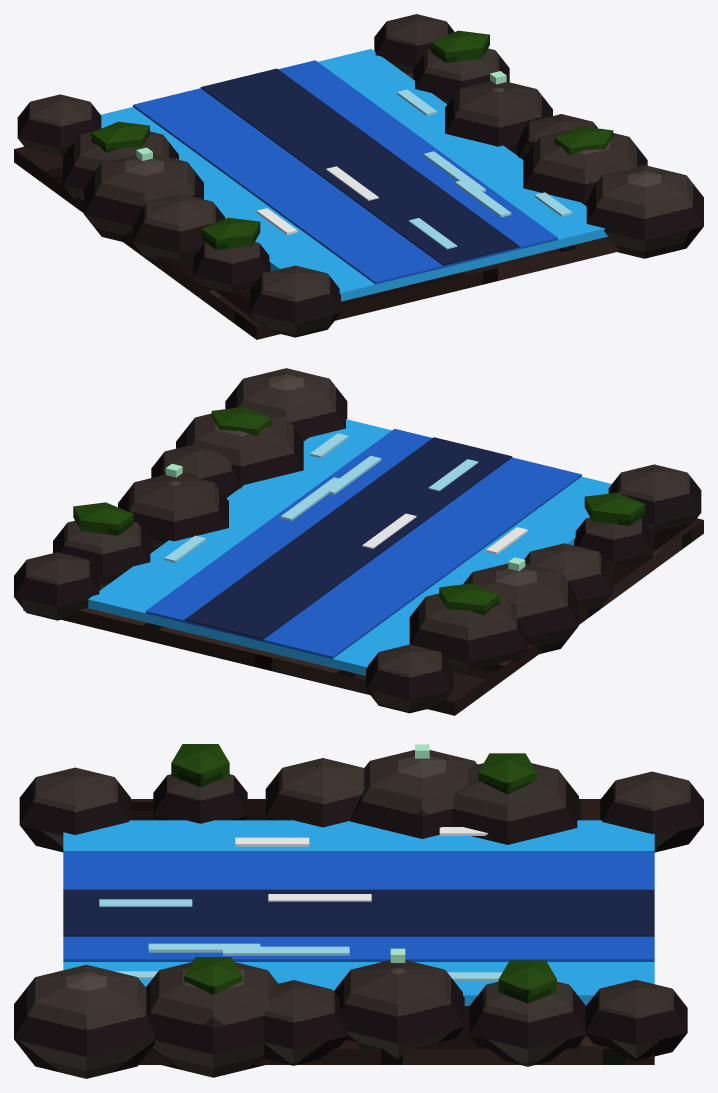
Rendered from stream_straight.glb.
The picture shows the model from 3 angles, top to bottom: view 1: azimuth 30°, elevation 25°; view 2: azimuth 150°, elevation 25°; view 3: azimuth 270°, elevation 25°; orthographic projection. The views are drawn at different scales.
Visible parts, largest first — view 1: stream_straight; view 2: stream_straight; view 3: stream_straight.
Boxes of the visible parts, box(x1,y1,x2,y2) form: stream_straight: box(14, 14, 703, 339); stream_straight: box(14, 368, 703, 715); stream_straight: box(14, 744, 703, 1078).
Size of the model in its own units: 2.3 by 0.3995 by 2.33.
3 materials, 2 textured.
